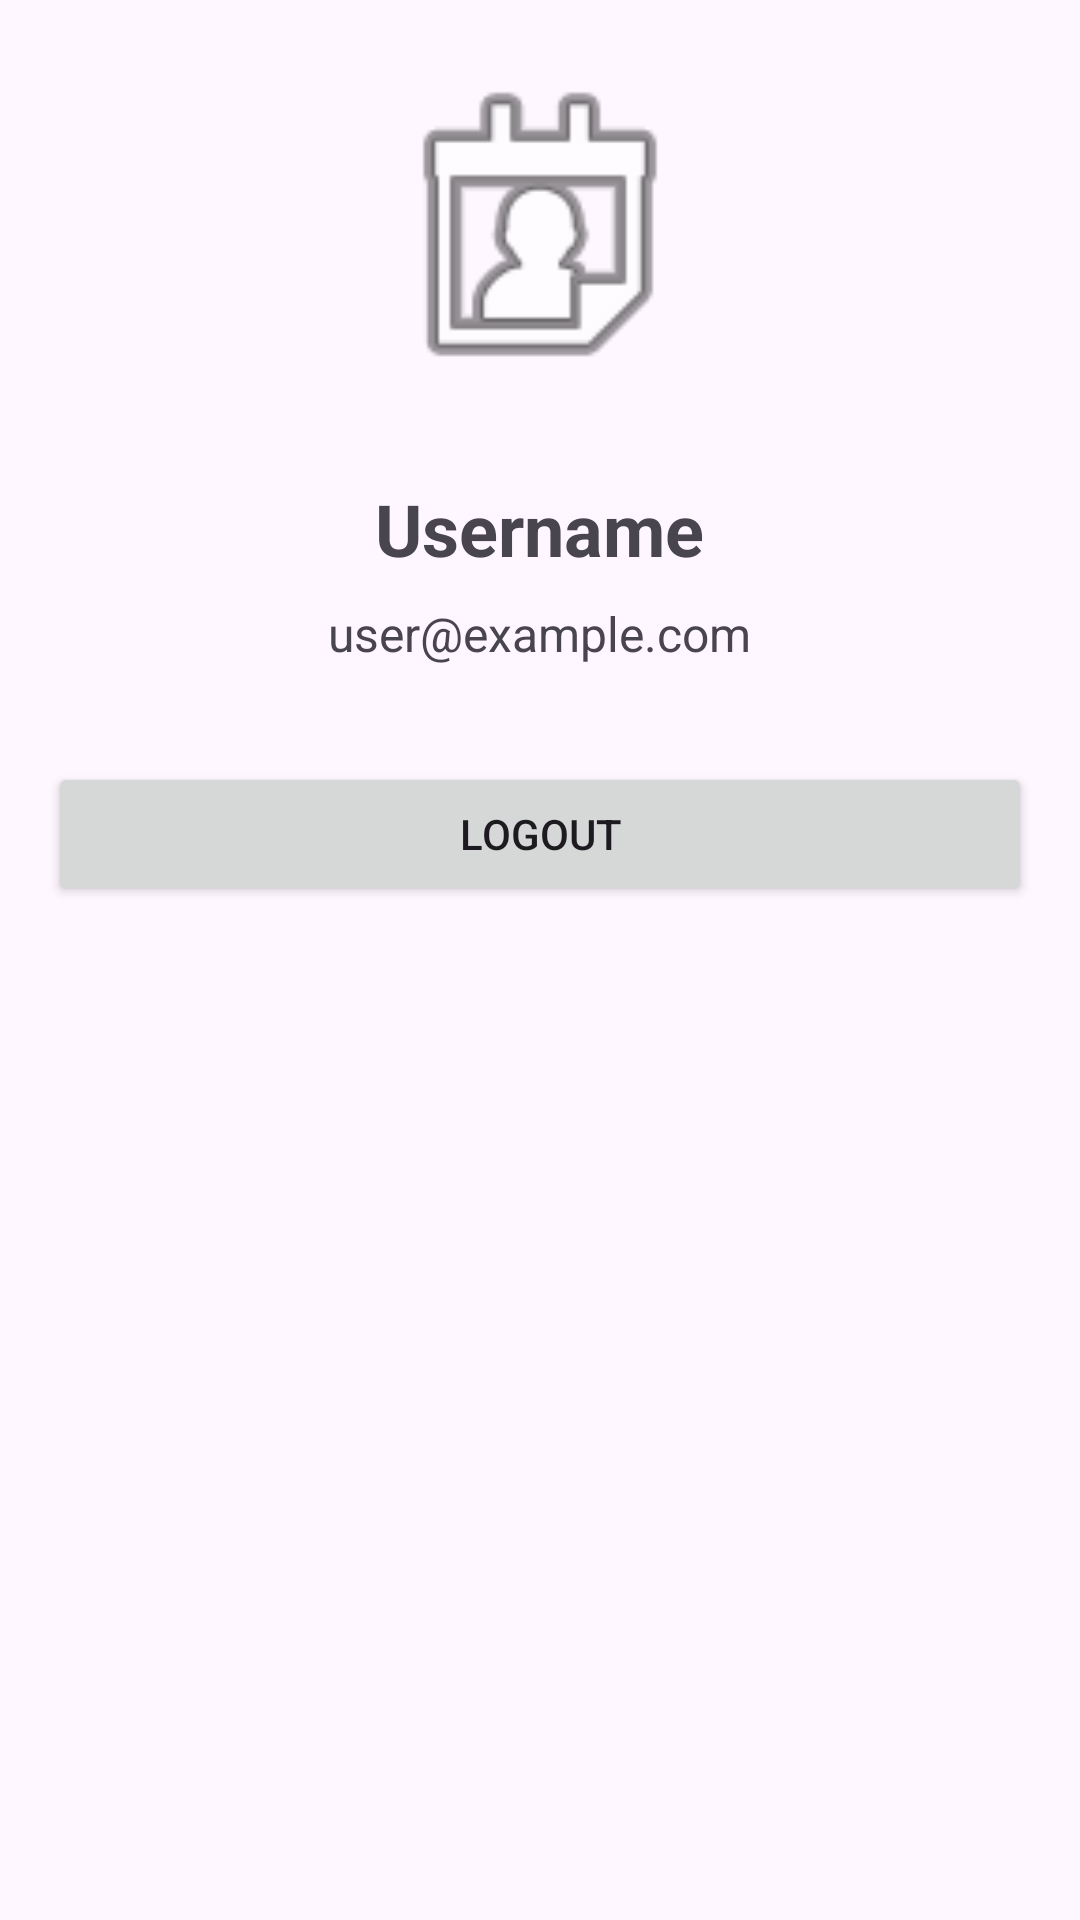

Icons on this 1080w x 1920h Android screen, each with the point to tap as (x,y):
calendar: (540,224)
